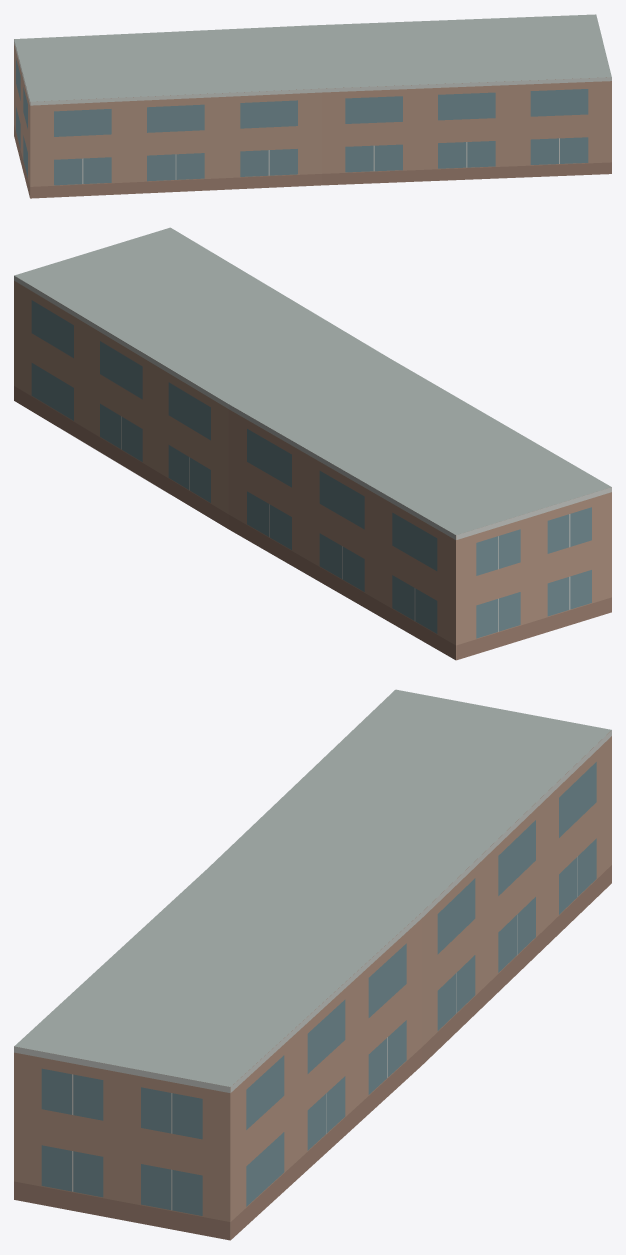
Rendered from survey-upis-33019931.glb.
The picture shows the model from 3 angles, top to bottom: view 1: azimuth 30°, elevation 25°; view 2: azimuth 150°, elevation 25°; view 3: azimuth 270°, elevation 25°; orthographic projection. The views are drawn at different scales.
Parts seen in each view (by area): view 1: survey-upis-33019931.tmp; view 2: survey-upis-33019931.tmp; view 3: survey-upis-33019931.tmp.
Part boxes in pixels (x1=…): survey-upis-33019931.tmp: x1=14, y1=14, x2=611, y2=198; survey-upis-33019931.tmp: x1=14, y1=227, x2=611, y2=660; survey-upis-33019931.tmp: x1=14, y1=689, x2=611, y2=1240.
Size of the model in its own units: 33.93 by 6.1 by 21.56.
